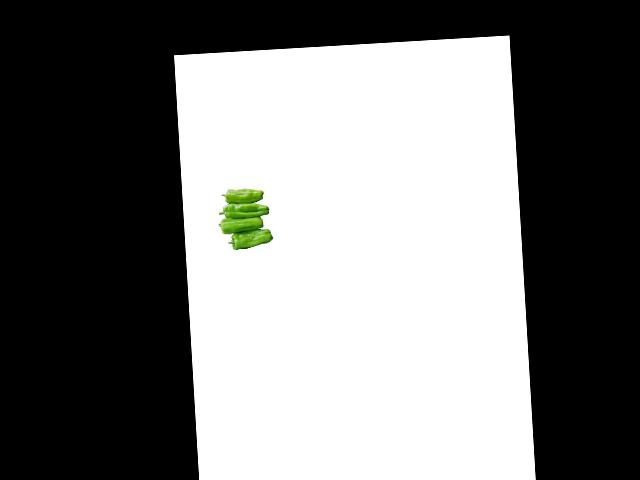bell_pepper: (225, 228, 277, 250)
